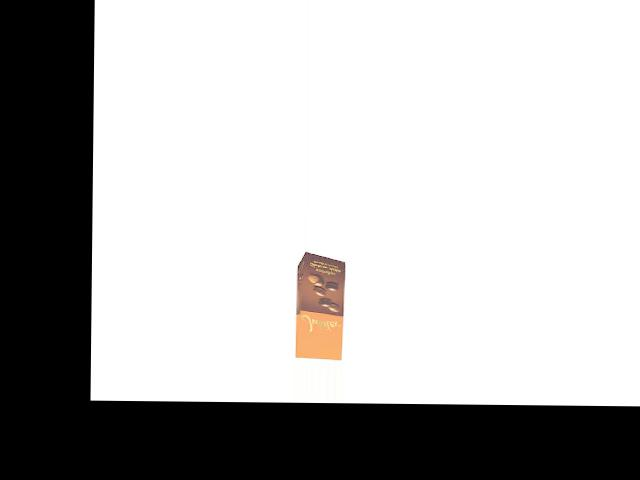chocolate: (292, 252, 351, 359)
